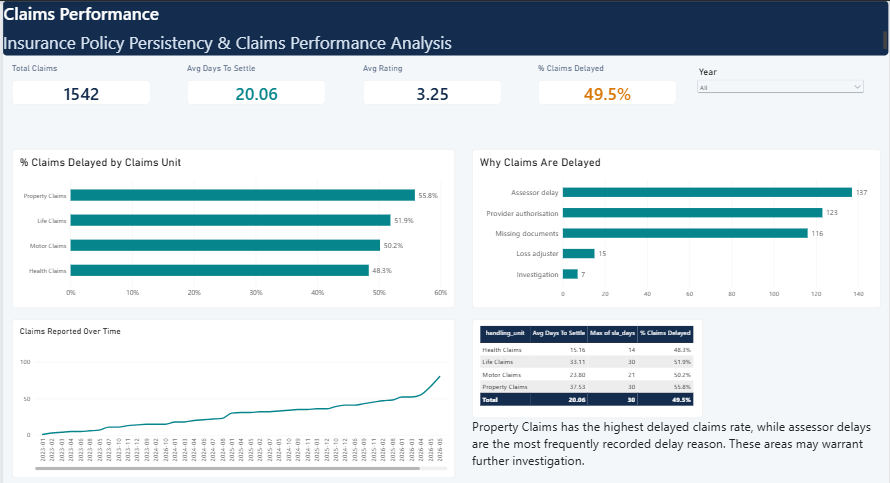

What the dashboard file says about the page in this screenshot:
{"tool":"powerbi","page":{"name":"Claims Performance","canvas":[1920,1080],"ordinal":1},"visuals":[{"type":"textbox","title":"Claims Performance","box":[0,0,1920,118.4],"z":0},{"type":"cardVisual","title":"Total Claims","fields":{"Data":["DateTable.Total Claims"]},"box":[19.5,134.5,300,90],"z":1000},{"type":"cardVisual","title":"Avg Days To Settle","fields":{"Data":["DateTable.Avg Days To Settle"]},"box":[399.8,134.5,300,90],"z":2000},{"type":"cardVisual","title":"Avg Rating","fields":{"Data":["DateTable.Avg Rating"]},"box":[780,134.5,300,90],"z":3000},{"type":"cardVisual","title":"% Claims Delayed","fields":{"Data":["DateTable.% Claims Delayed"]},"box":[1160.2,134.5,300,90],"z":4000},{"type":"clusteredBarChart","title":"% Claims Delayed by Claims Unit","fields":{"Category":["claims.handling_unit"],"Y":["DateTable.% Claims Delayed"]},"box":[19.5,321,960.7,344.8],"z":5000},{"type":"clusteredBarChart","title":"Why Claims Are Delayed","fields":{"Category":["claims.delay_reason"],"Y":["DateTable.Delayed Claims"]},"box":[1017.1,321,887,344.8],"z":6000},{"type":"slicer","title":"Year","fields":{"Values":["DateTable.Year"]},"box":[1500.7,141,370.8,84.6],"z":7000},{"type":"lineChart","title":"Claims Reported Over Time","fields":{"Category":["DateTable.Month"],"Y":["DateTable.Total Claims"]},"box":[19.5,689.6,961,345],"z":8000},{"type":"tableEx","fields":{"Values":["claims.handling_unit","DateTable.Avg Days To Settle","Max(claims.sla_days)","DateTable.% Claims Delayed"]},"box":[1017.1,689.6,501,214.7],"z":9000},{"type":"textbox","box":[1017.1,904.3,869.6,130.1],"z":10000}]}

Visuals, with their boxes on the page's 1920x1080 design canvas (x1, y1, x2, y2). These are canvas units, not pixel positions in the 890x483 screenshot, which may show the page scaled, cropped or inside an application window:
"Claims Performance" textbox: bbox=(0, 0, 1920, 118)
"Total Claims" cardVisual: bbox=(20, 134, 320, 224)
"Avg Days To Settle" cardVisual: bbox=(400, 134, 700, 224)
"Avg Rating" cardVisual: bbox=(780, 134, 1080, 224)
"% Claims Delayed" cardVisual: bbox=(1160, 134, 1460, 224)
"% Claims Delayed by Claims Unit" clusteredBarChart: bbox=(20, 321, 980, 666)
"Why Claims Are Delayed" clusteredBarChart: bbox=(1017, 321, 1904, 666)
"Year" slicer: bbox=(1501, 141, 1872, 226)
"Claims Reported Over Time" lineChart: bbox=(20, 690, 980, 1035)
tableEx - claims.handling_unit x DateTable.Avg Days To Settle: bbox=(1017, 690, 1518, 904)
textbox: bbox=(1017, 904, 1887, 1034)
